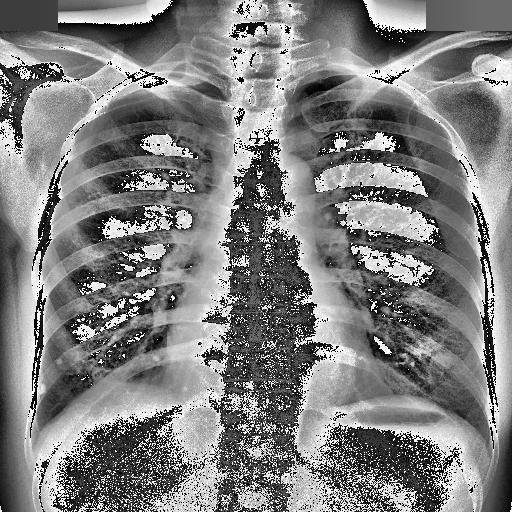11- Pleural thickening: (112, 73, 206, 100), (114, 70, 206, 97), (114, 76, 196, 100), (292, 68, 322, 96)
2- Calcification: (38, 382, 48, 394)
7- Lung Opacity: (114, 76, 196, 100)
8- Nodule-Mass: (38, 381, 50, 396), (36, 382, 48, 396), (56, 357, 64, 365), (54, 358, 62, 365)
